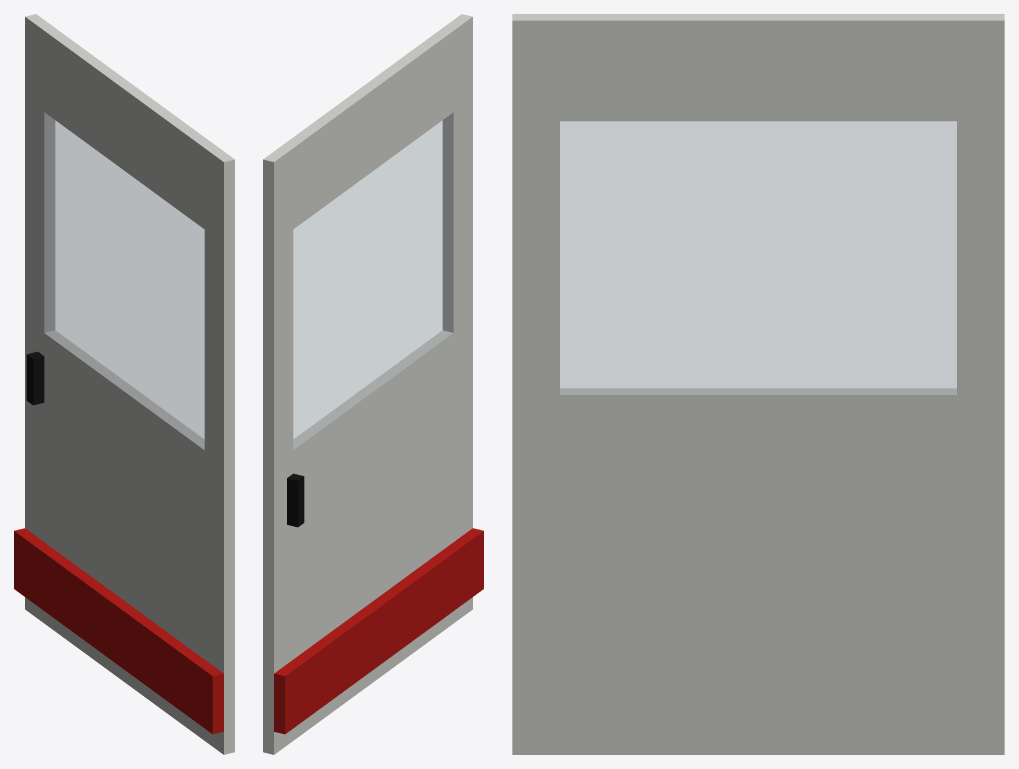
Rendered from ambulance_rear_door.glb.
3 views of the same model, side by side, from view 1: azimuth 30°, elevation 25°; view 2: azimuth 150°, elevation 25°; view 3: azimuth 270°, elevation 25° (orthographic). The views are drawn at different scales.
Parts seen in each view (by area): view 1: body:compound; view 2: body:compound; view 3: body:compound.
Part boxes in pixels (x1,y1,x2,y2): body:compound: (14,14,234,754); body:compound: (263,14,483,754); body:compound: (512,14,1004,754).
Bounding box in the file's own units: 0.0625 × 1.59 × 0.9688.
